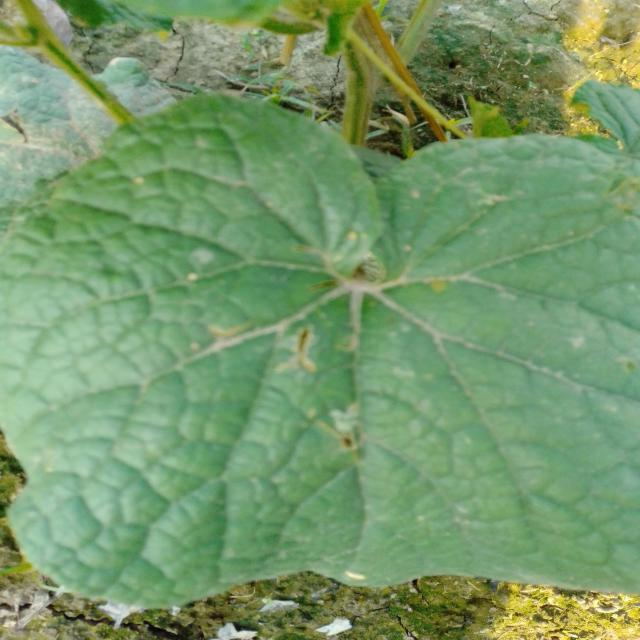cucumber_healthy: (1, 83, 640, 615)
